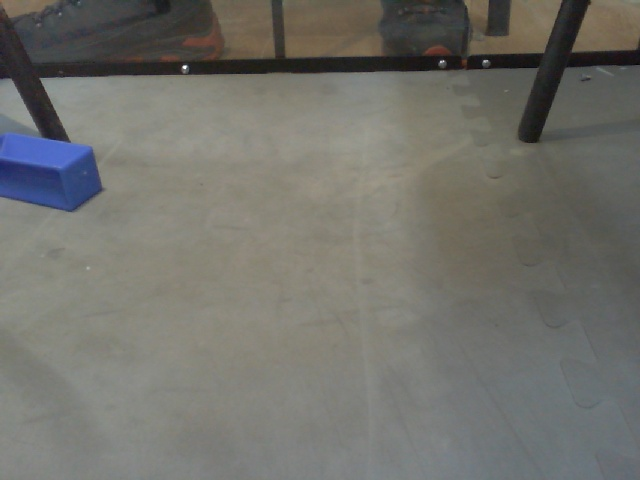BlueSample: (1, 130, 103, 214)
